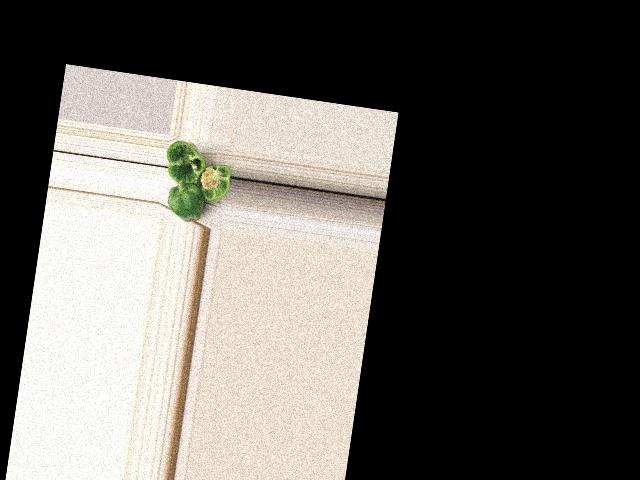bell_pepper: (194, 153, 233, 206)
